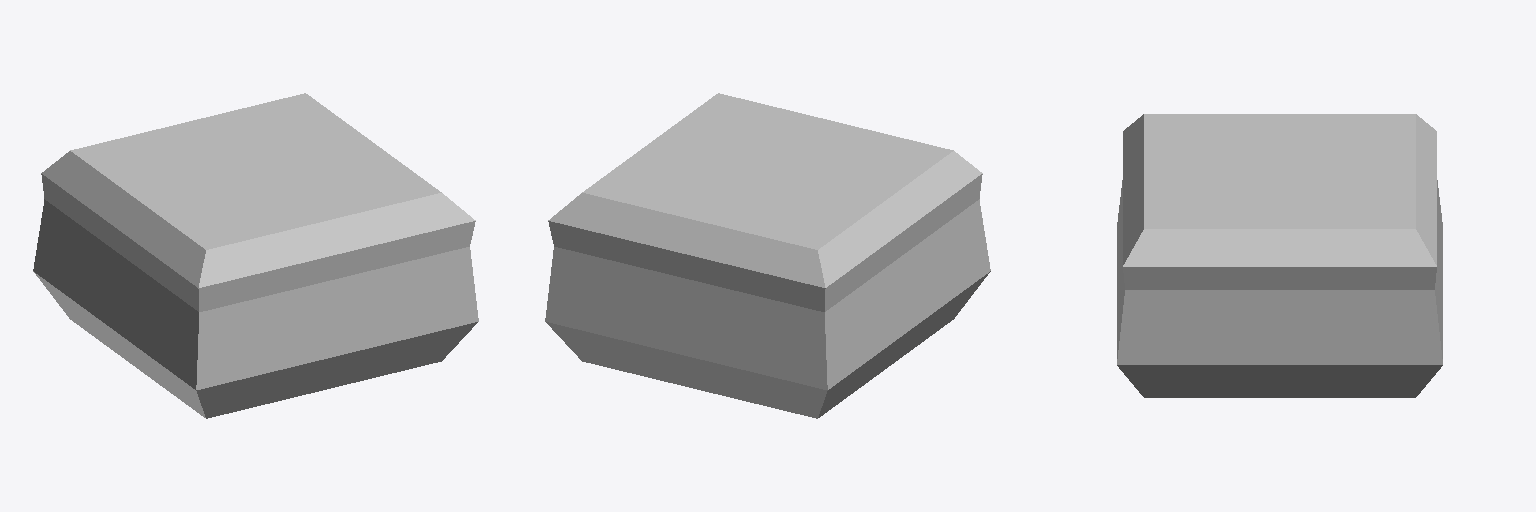
The model's file is bottomhalfchest.obj.
3 views of the same model, side by side, from view 1: azimuth 30°, elevation 25°; view 2: azimuth 150°, elevation 25°; view 3: azimuth 270°, elevation 25° (orthographic).
Parts seen in each view (by area): view 1: Cube; view 2: Cube; view 3: Cube.
Part boxes in pixels (left/top/right/bottom): Cube: left=33, top=93, right=478, bottom=418; Cube: left=545, top=93, right=990, bottom=418; Cube: left=1117, top=114, right=1442, bottom=397.
Bounding box in the file's own units: 2.4 × 1.37 × 2.4.